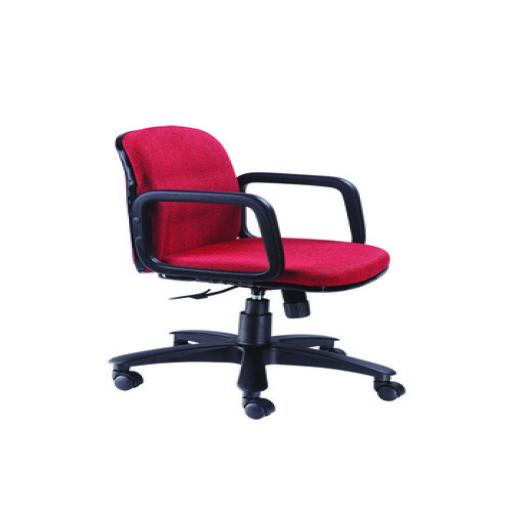chair: (94, 118, 422, 428)
